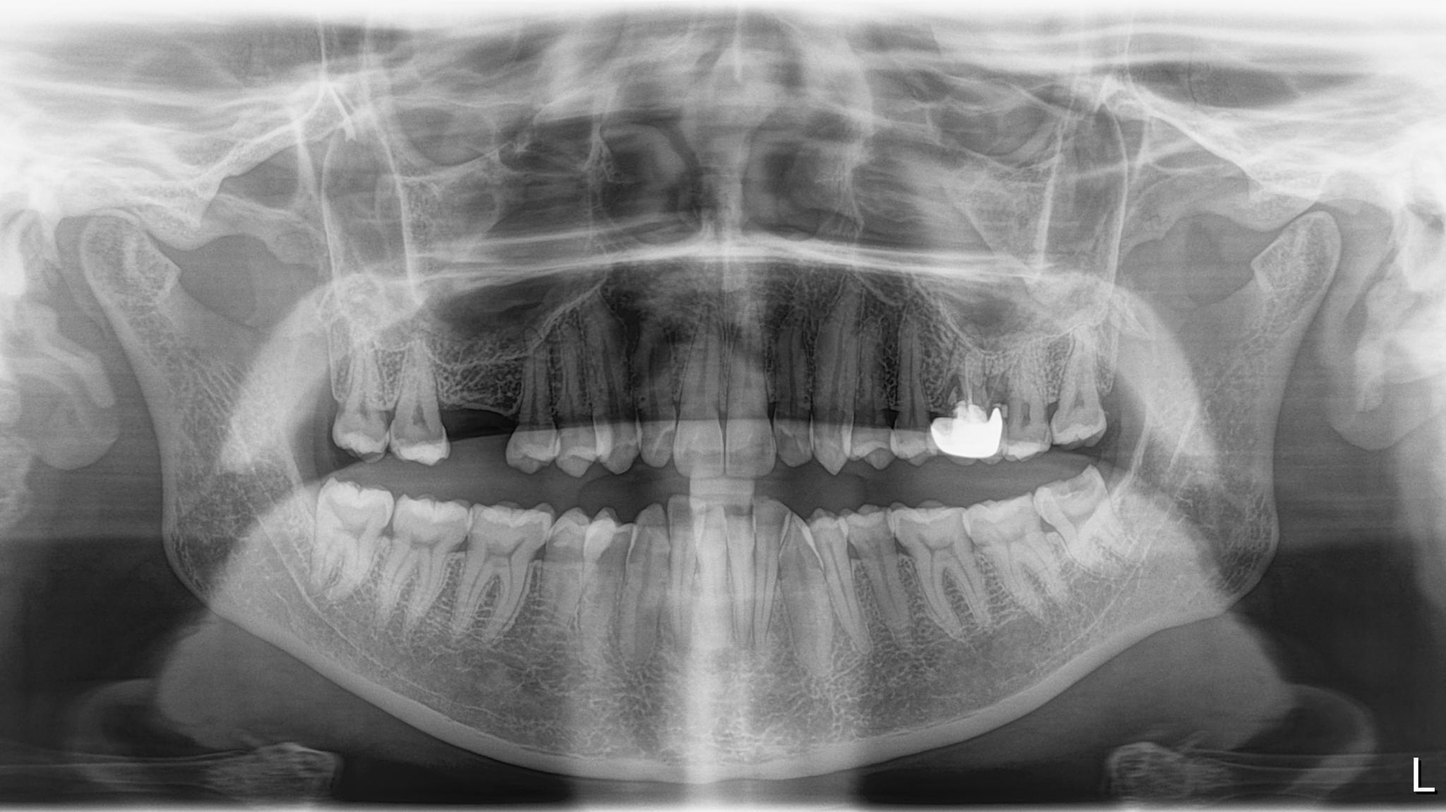Missing Tooth: (441, 339, 510, 459)
